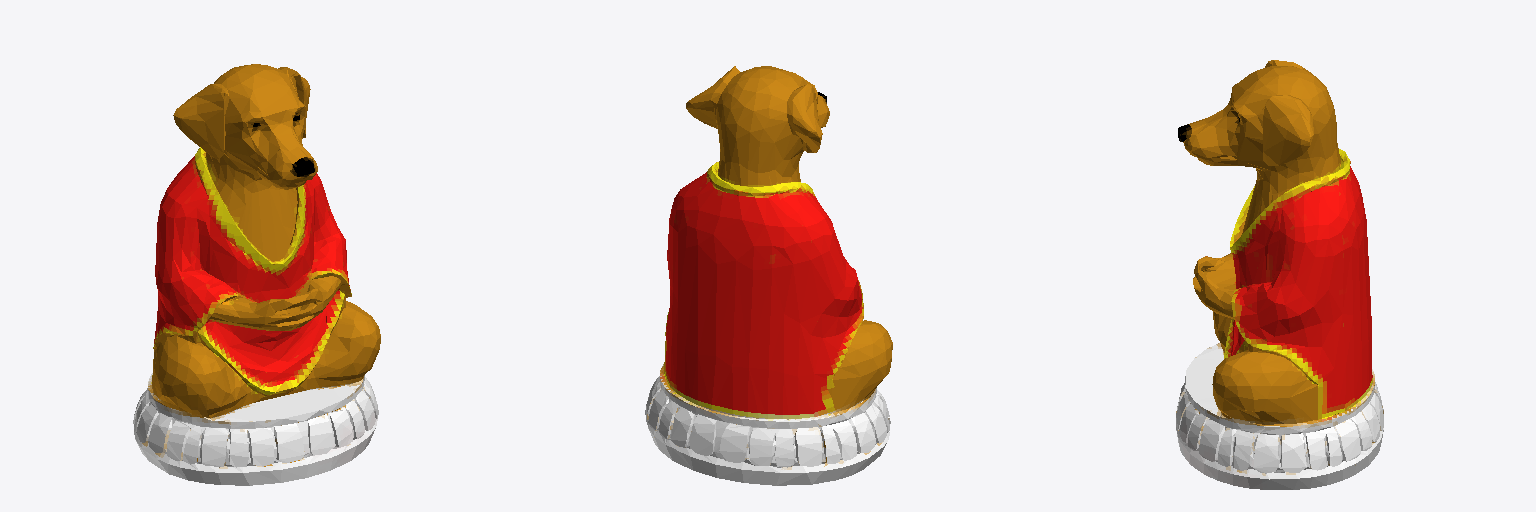
3 renders of one model, left to right at view 1: azimuth 30°, elevation 25°; view 2: azimuth 150°, elevation 25°; view 3: azimuth 270°, elevation 25°, orthographic.
Parts seen in each view (by area): view 1: v2.001; view 2: v2.001; view 3: v2.001.
Part boxes in pixels (x1,y1,x2,y2): v2.001: (133, 64, 380, 485); v2.001: (645, 66, 892, 485); v2.001: (1176, 60, 1383, 489).
Bounding box in the file's own units: 61.75 × 99.94 × 51.12.
1 materials, 1 textured.